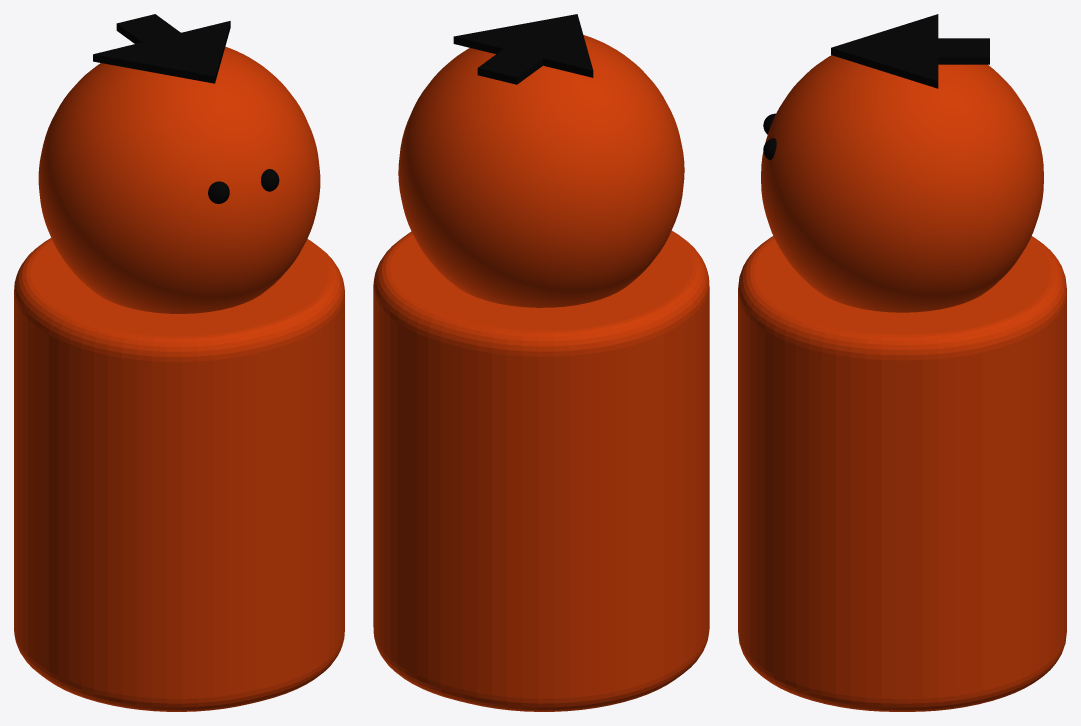
The picture shows the model from 3 angles, left to right: view 1: azimuth 30°, elevation 25°; view 2: azimuth 150°, elevation 25°; view 3: azimuth 270°, elevation 25°; orthographic projection.
Parts seen in each view (by area): view 1: Cube.004_Cube.014_Material.005, Cube.004_Cube.014_SVGMat; view 2: Cube.004_Cube.014_Material.005, Cube.004_Cube.014_SVGMat; view 3: Cube.004_Cube.014_Material.005, Cube.004_Cube.014_SVGMat.
Boxes of the visible parts, x1,y1,x2,y2 form: Cube.004_Cube.014_Material.005: [14, 46, 344, 711]; Cube.004_Cube.014_SVGMat: [93, 14, 279, 203]; Cube.004_Cube.014_Material.005: [373, 35, 709, 711]; Cube.004_Cube.014_SVGMat: [453, 14, 593, 84]; Cube.004_Cube.014_Material.005: [738, 55, 1066, 711]; Cube.004_Cube.014_SVGMat: [763, 14, 989, 160].
Size of the model in its own units: 0.2392 by 0.4819 by 0.2392.
